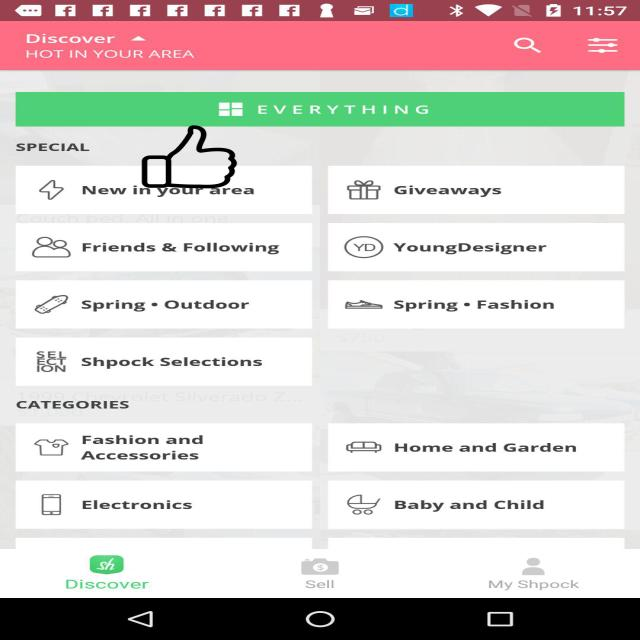privacy zuckering: (140, 125, 238, 188)
